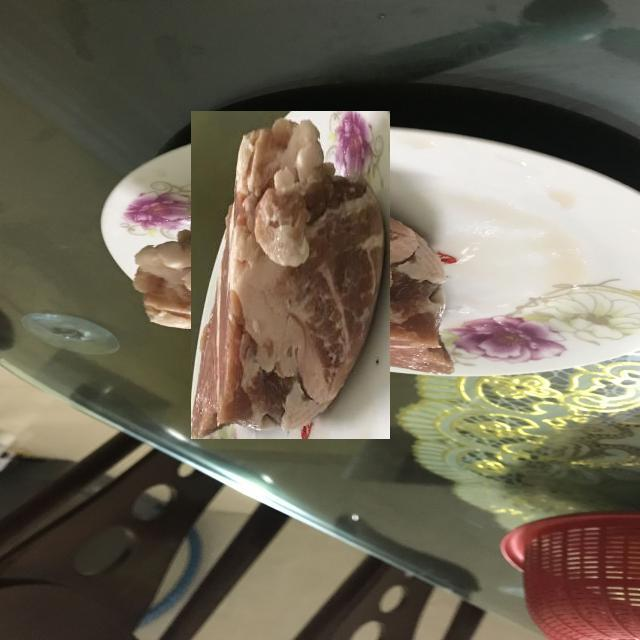chicken: (158, 143, 422, 407)
